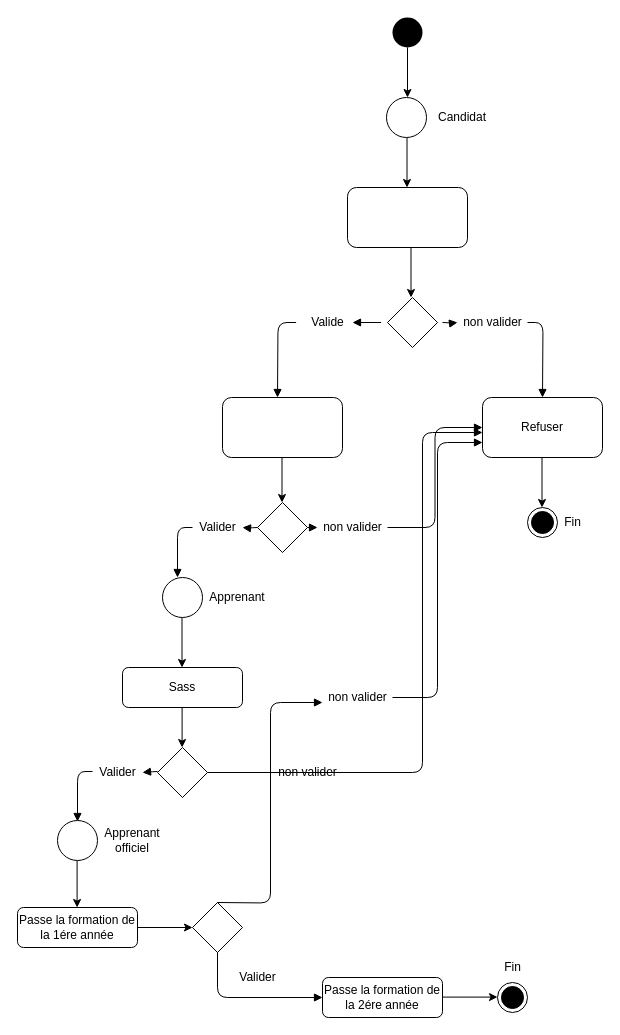
The diagram is 620 pixels wide and 1035 high, and some of its shapes have lost their labels. Here are the shapes that lost their labels. From the top down, the centre of each, then its label:
At (x=407, y=217): "Test en ligne".
At (x=282, y=427): "Sourcing".
